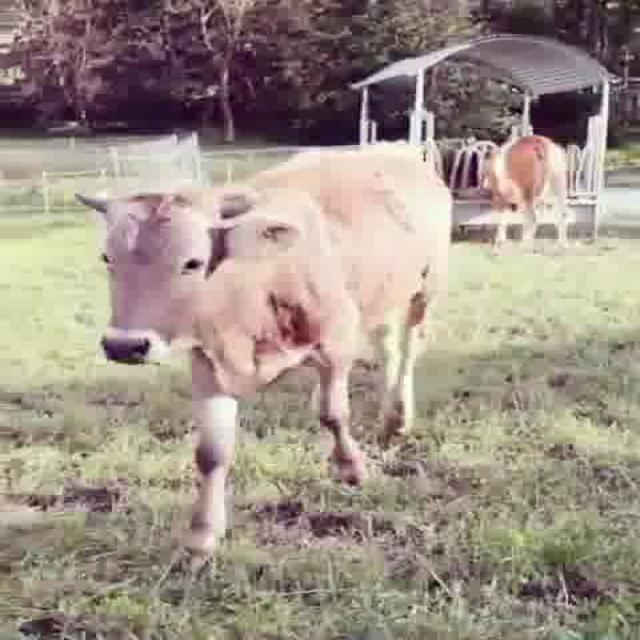cowFace: (60, 172, 296, 369)
